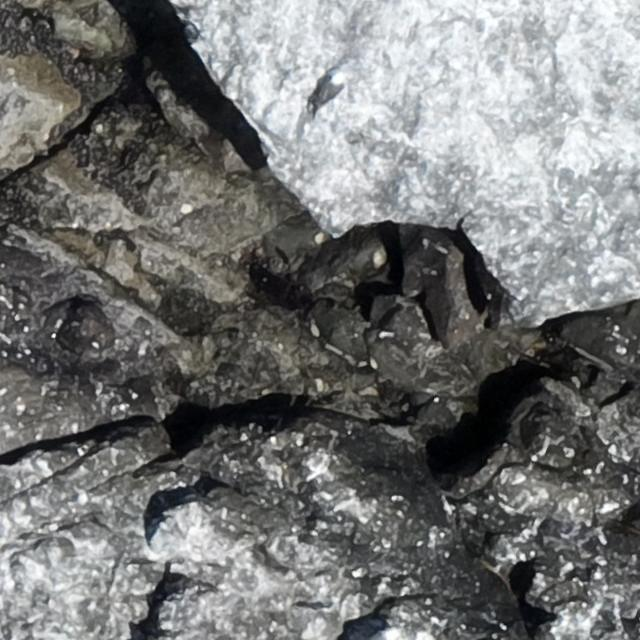umineko: (316, 69, 348, 116), (379, 622, 409, 638)
